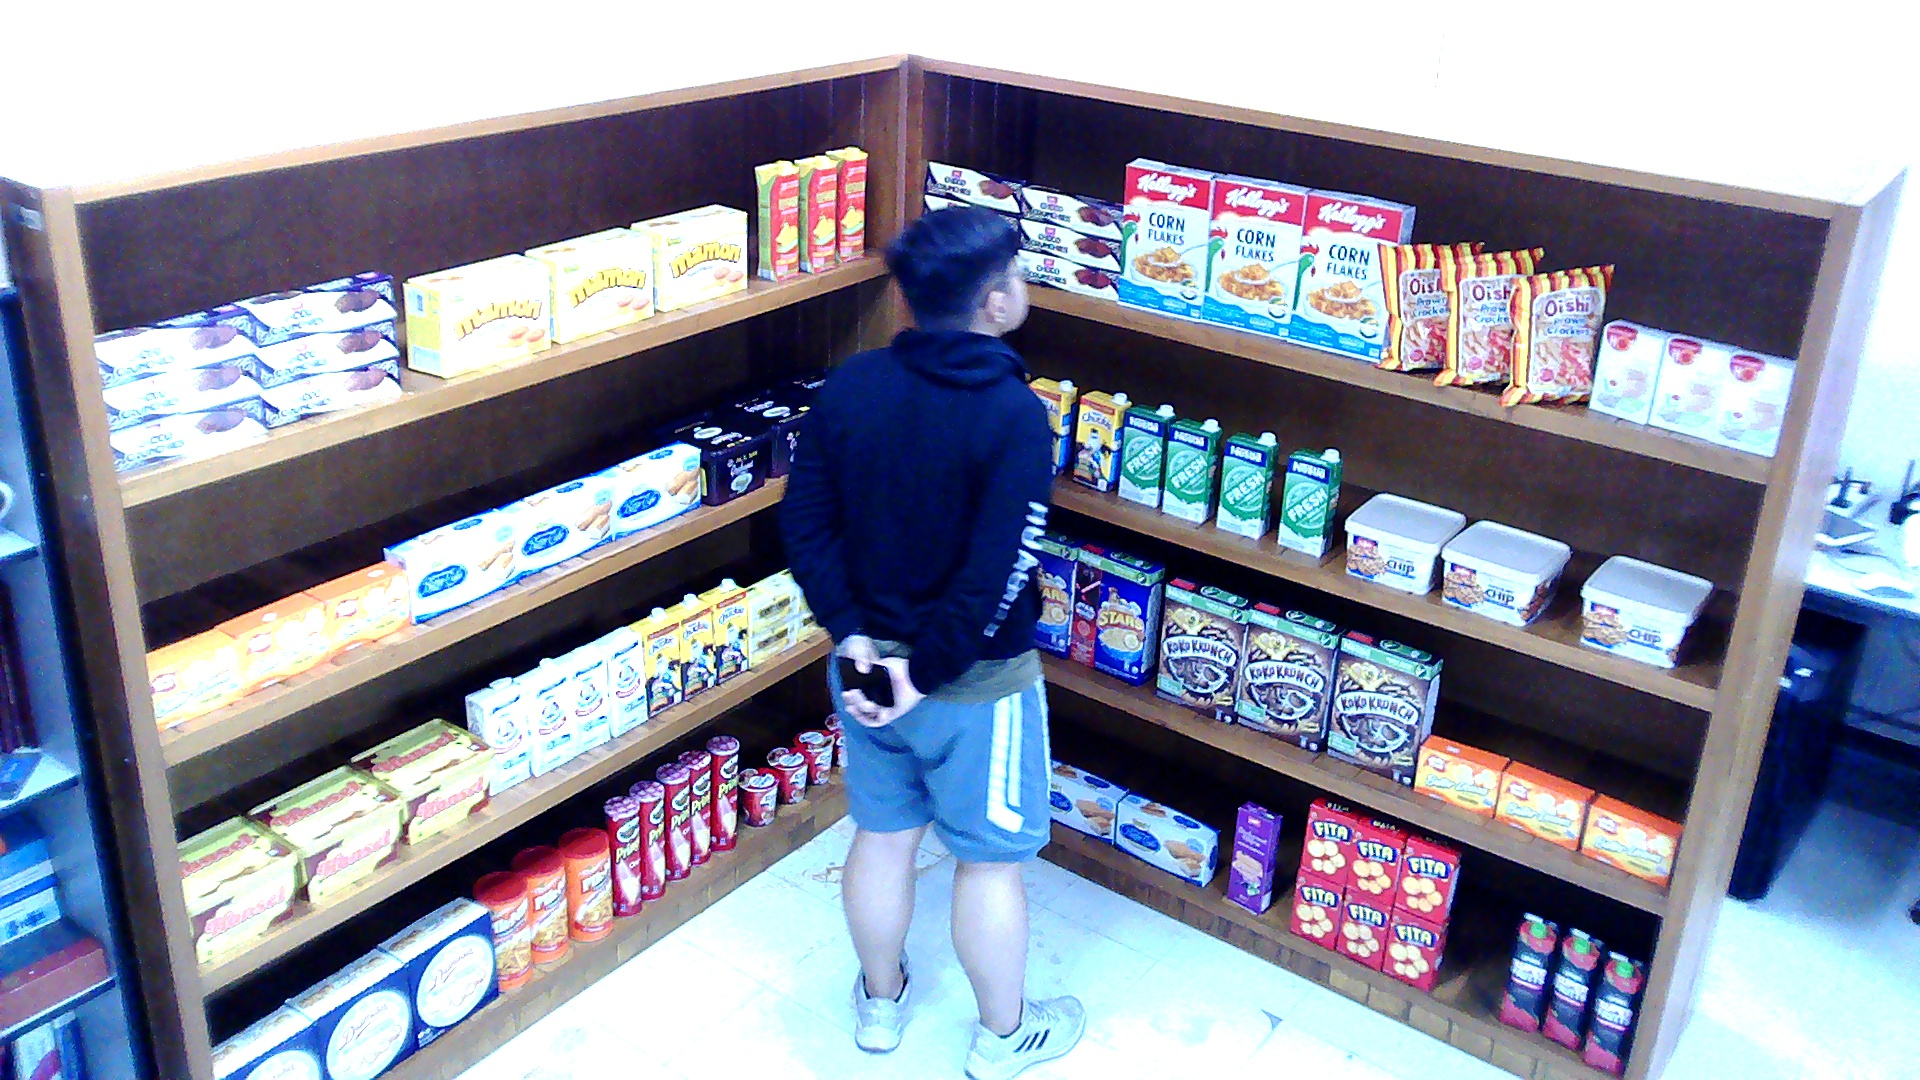Bear brand: (462, 675, 528, 797), (513, 657, 576, 776), (585, 625, 648, 738), (552, 644, 609, 754)
Buttercake: (381, 508, 516, 625), (492, 475, 609, 581), (591, 441, 699, 540), (1113, 787, 1221, 886), (1050, 756, 1128, 844)
Butterlicious: (216, 591, 330, 694), (303, 560, 411, 657), (144, 628, 240, 731), (1581, 792, 1683, 886), (1494, 758, 1596, 850), (1413, 733, 1509, 816)
Camomille: (747, 569, 798, 632), (747, 612, 798, 666), (797, 605, 824, 641)
Choco Crunchies: (93, 301, 252, 389), (234, 269, 396, 348), (102, 356, 258, 432), (108, 398, 264, 468), (258, 317, 399, 389), (263, 358, 398, 430), (923, 160, 1034, 212), (1017, 218, 1119, 270), (1020, 184, 1122, 236), (1017, 250, 1116, 299)
Chocolate Chips: (1578, 553, 1716, 666), (1440, 520, 1572, 626), (1343, 492, 1466, 593)
Chuckie: (1071, 387, 1131, 493), (627, 608, 681, 718), (666, 594, 714, 702), (699, 576, 747, 684), (1025, 377, 1076, 476)
Danisa: (375, 895, 498, 1048), (281, 944, 416, 1079), (209, 1004, 320, 1078)
Fita: (1392, 833, 1461, 925), (1347, 812, 1410, 906), (1380, 909, 1449, 990), (1299, 794, 1362, 884), (1287, 868, 1341, 949), (1335, 888, 1389, 969)
Fresh Milk: (1277, 445, 1340, 558), (1215, 430, 1278, 538), (1161, 416, 1221, 522), (1118, 402, 1175, 505)
Grahams: (657, 404, 771, 503), (720, 385, 813, 477)
Hansel: (246, 765, 402, 902), (347, 716, 494, 844), (173, 815, 296, 963)
Head: (885, 198, 1035, 351)
Honey Stars: (1068, 540, 1164, 684), (1040, 526, 1085, 659)
Kellogg Corn Flakes: (1287, 189, 1413, 362), (1199, 170, 1310, 339), (1116, 158, 1224, 322)
Kimchi Noodles: (765, 747, 807, 803), (737, 764, 776, 825), (792, 729, 834, 783), (822, 711, 846, 765)
Koko Krunch: (1326, 628, 1443, 785), (1236, 598, 1344, 751), (1155, 576, 1254, 724)
Locally Mango: (752, 160, 797, 282), (795, 155, 837, 274), (825, 146, 867, 261)
Mamon: (402, 252, 552, 378), (524, 227, 653, 344), (630, 202, 747, 310)
Oishi Prawn: (1494, 263, 1614, 405), (1433, 247, 1544, 387), (1373, 241, 1484, 371)
Pik-nik: (474, 870, 531, 989), (510, 843, 567, 962), (558, 825, 612, 940)
Pringles: (599, 794, 638, 916), (627, 778, 663, 900), (654, 762, 690, 879), (704, 733, 737, 850), (678, 746, 711, 863)
Super Fruits: (1581, 949, 1644, 1075), (1541, 927, 1604, 1051), (1497, 911, 1560, 1033)
Wafer: (1227, 800, 1281, 913)
iHop: (1647, 333, 1737, 439), (1587, 317, 1674, 423), (1712, 347, 1793, 457)
